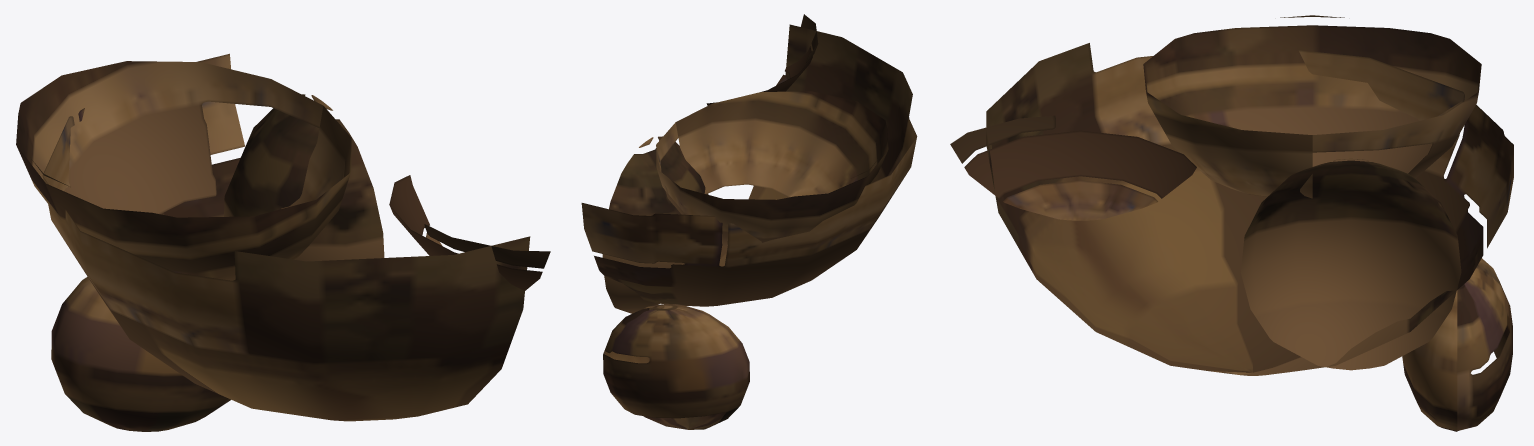
The model's file is section-3.obj.
The picture shows the model from 3 angles, left to right: view 1: azimuth 30°, elevation 25°; view 2: azimuth 150°, elevation 25°; view 3: azimuth 270°, elevation 25°; orthographic projection. The views are drawn at different scales.
Size of the model in its own units: 0.8292 by 0.9446 by 1.53.
